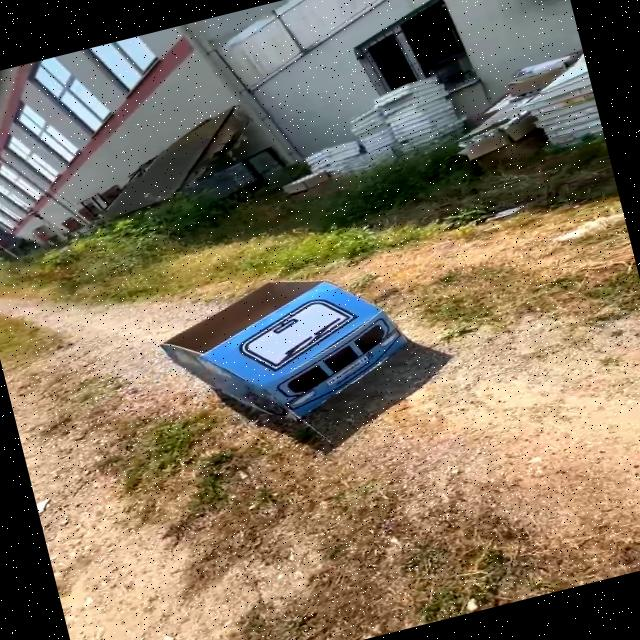blue_car: (138, 240, 445, 461)
